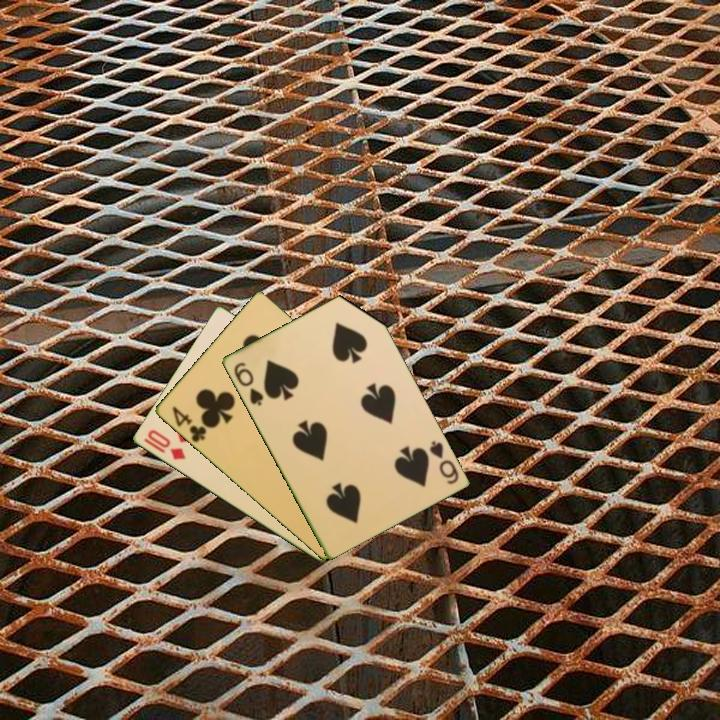10d: (143, 426, 188, 463)
4c: (168, 403, 209, 445)
6s: (230, 358, 266, 409), (426, 437, 461, 487)
